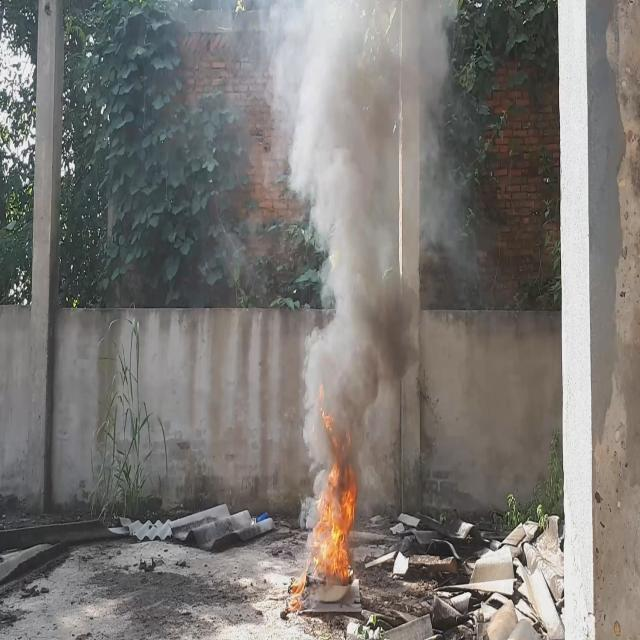Fire: (312, 458, 362, 582)
Smoke: (253, 0, 478, 477)
